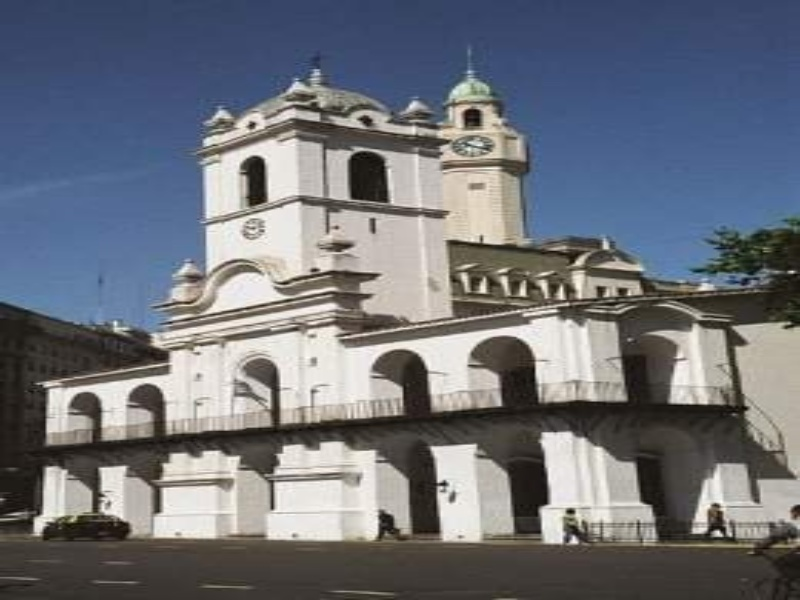cabildo: (24, 52, 769, 550)
